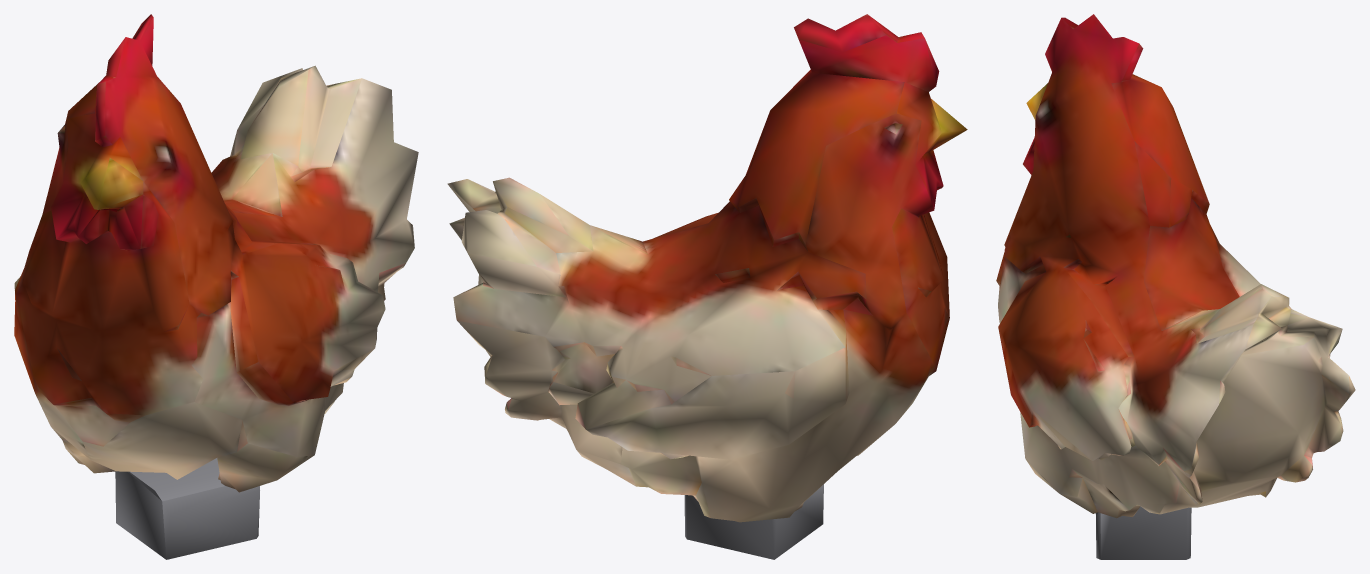
The model's file is gallina_baja.glb.
3 renders of one model, left to right at view 1: azimuth 30°, elevation 25°; view 2: azimuth 150°, elevation 25°; view 3: azimuth 270°, elevation 25°, orthographic. The views are drawn at different scales.
Parts seen in each view (by area): view 1: gallo; view 2: gallo; view 3: gallo.
Part boxes in pixels (x1,y1,x2,y2): gallo: [14, 14, 418, 559]; gallo: [447, 14, 967, 559]; gallo: [996, 14, 1355, 559].
Bounding box in the file's own units: 1.72 × 1.99 × 1.34.
Materials: 2 (1 with a texture image).
